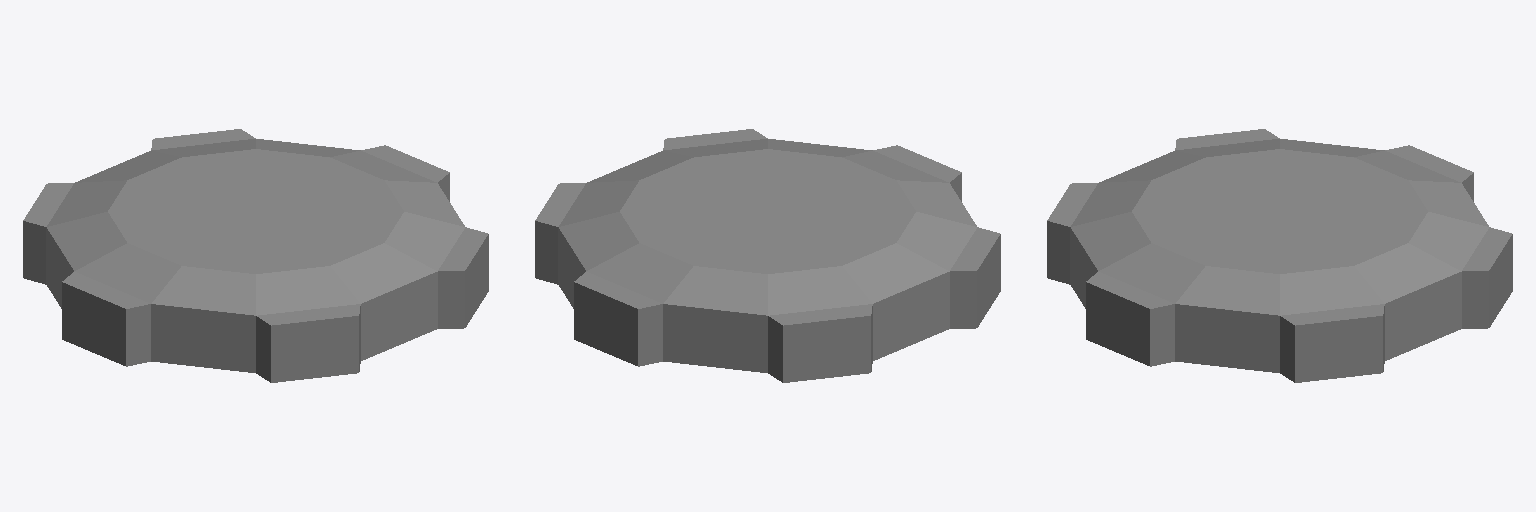
The model's file is wheel.obj.
3 renders of one model, left to right at view 1: azimuth 30°, elevation 25°; view 2: azimuth 150°, elevation 25°; view 3: azimuth 270°, elevation 25°, orthographic.
Visible parts, largest first — view 1: Object04; view 2: Object04; view 3: Object04.
Part boxes in pixels (left/top/right/bottom): Object04: left=23, top=129, right=488, bottom=382; Object04: left=535, top=129, right=1000, bottom=382; Object04: left=1047, top=129, right=1512, bottom=382.
Size of the model in its own units: 3.73 by 0.7847 by 3.73.